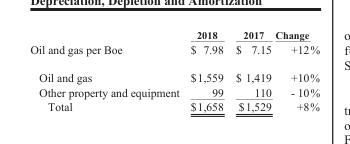table: (29, 29, 319, 112)
table column: (29, 29, 184, 112), (272, 29, 319, 112), (184, 29, 228, 112), (228, 29, 272, 112)
table column header: (29, 29, 319, 41)
table row: (29, 41, 319, 63), (29, 63, 319, 84), (29, 84, 319, 99), (29, 99, 319, 112), (29, 29, 319, 41)
